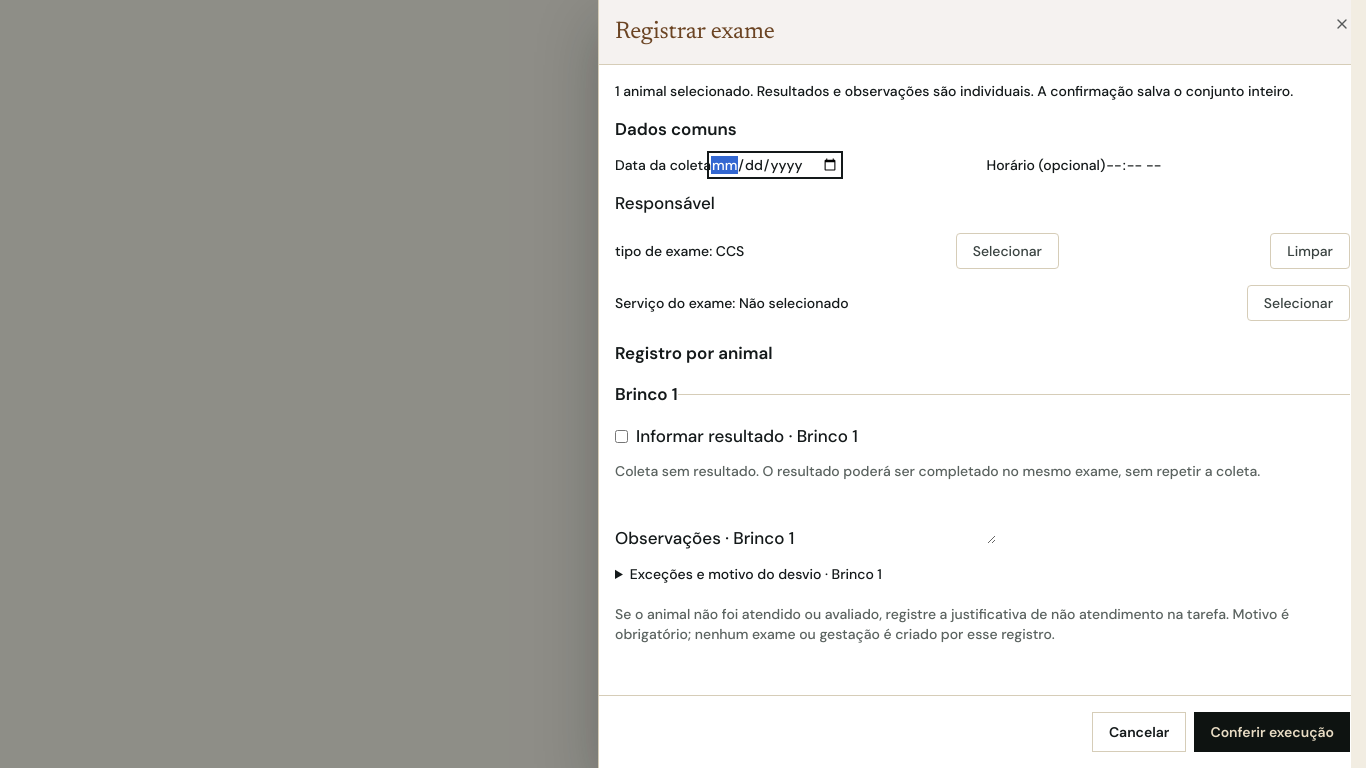
registra somente coleta com DIA sem inventar resultado nem horário
The width and height of the screenshot is (1366, 768).
Expected: the text "tipo de exame: CCS" is shown, x1=615 y1=241 x2=744 y2=261
Type "2026-10-21" into the date field labelled "Data da coleta" at (775, 164), box x1=711 y1=154 x2=839 y2=174
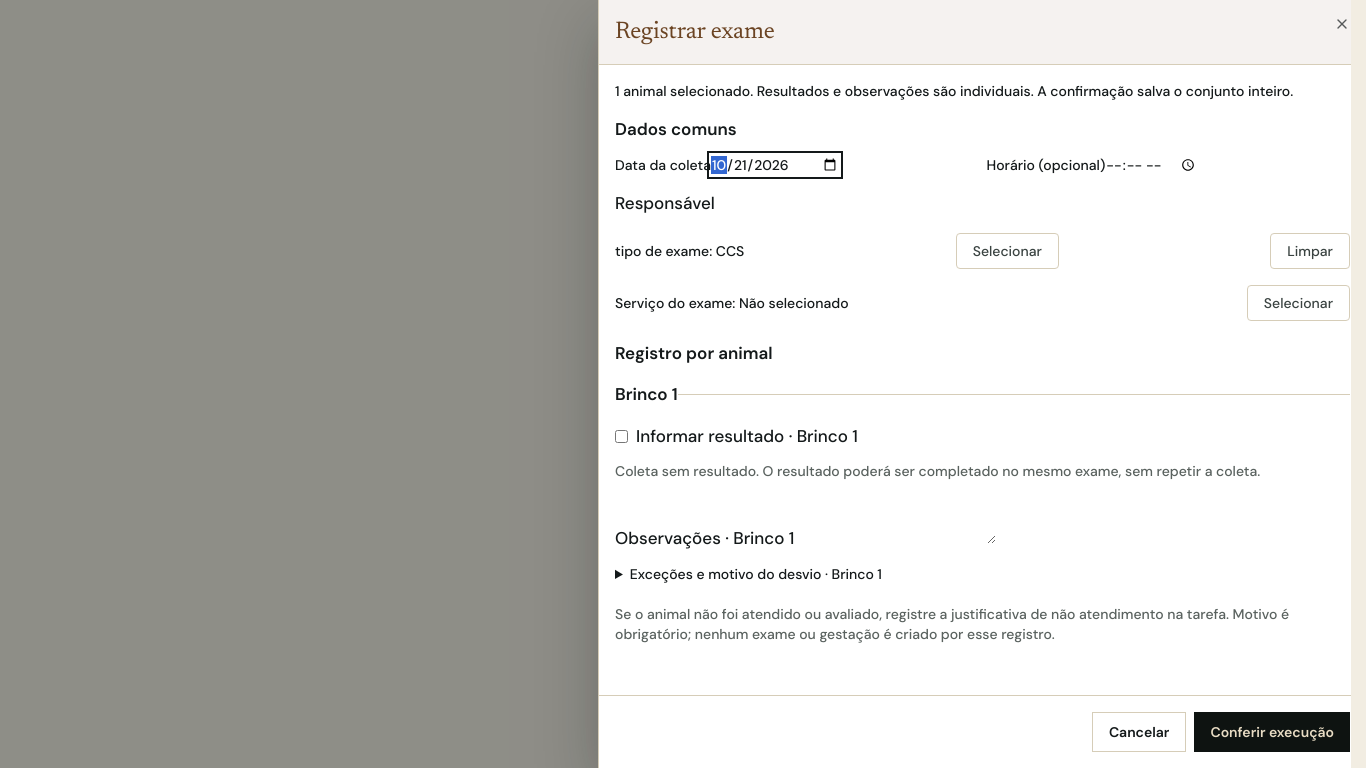
Click the button "Conferir execução" at (1272, 732), box x1=1194 y1=712 x2=1350 y2=752
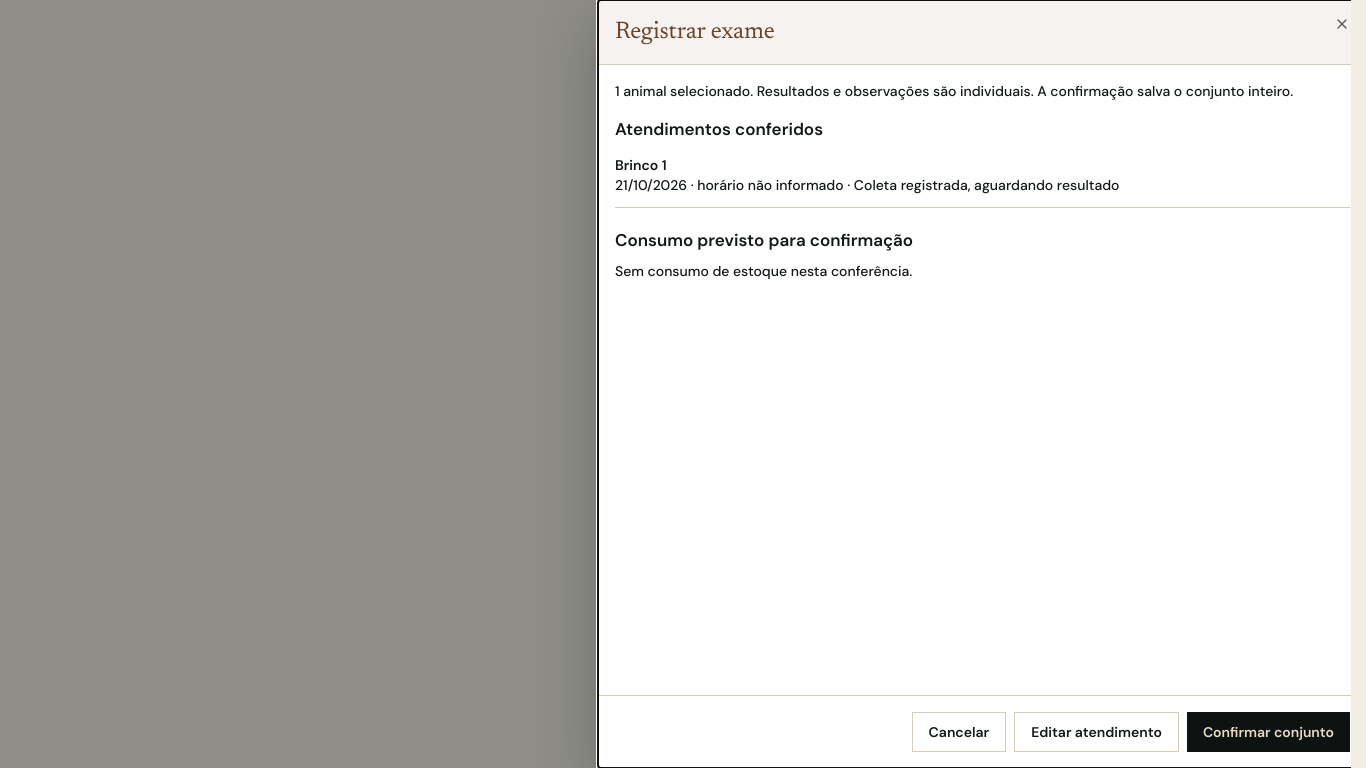
Expected: the button "Confirmar conjunto" is shown, x1=1187 y1=712 x2=1350 y2=752
